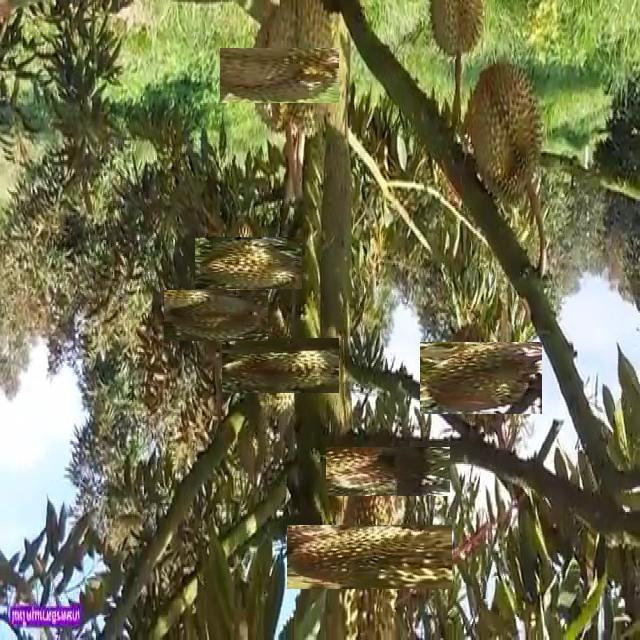durian: (312, 500, 427, 615), (461, 56, 544, 214), (262, 2, 334, 140), (432, 329, 529, 427), (235, 32, 323, 119), (345, 428, 432, 515), (237, 322, 323, 409), (208, 224, 288, 304), (177, 277, 255, 355), (426, 2, 488, 59)
